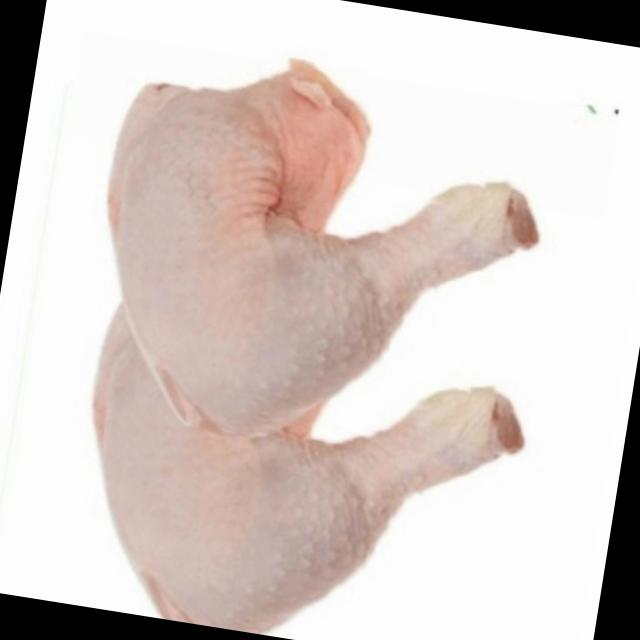Ayam: (74, 31, 560, 468)
